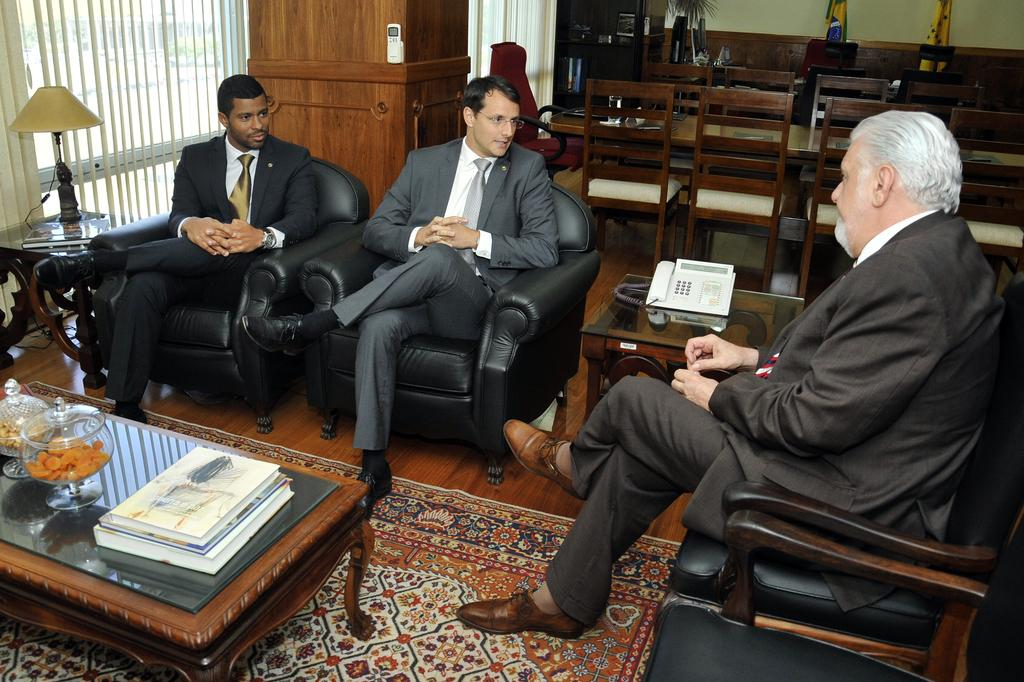Chair: (666, 373, 1023, 681), (303, 158, 572, 494), (83, 158, 374, 435), (639, 514, 1023, 681), (795, 98, 932, 308), (683, 82, 791, 292), (579, 78, 698, 264), (948, 107, 1023, 296), (490, 42, 586, 186), (792, 74, 885, 215), (721, 68, 797, 238), (643, 64, 712, 229), (910, 81, 1002, 126)
